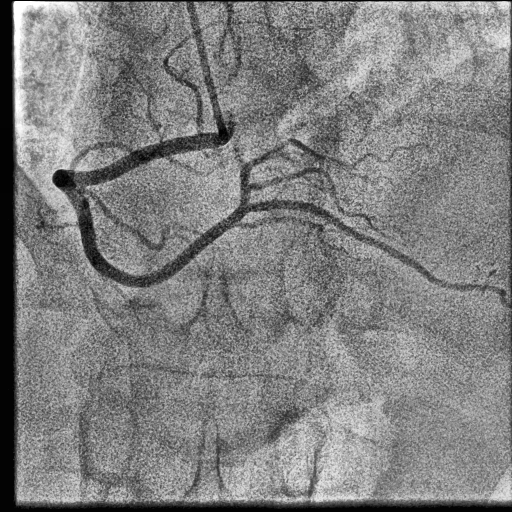pborca: (239, 138, 354, 205)
pda: (247, 199, 508, 306)
rca: (52, 133, 250, 288)
